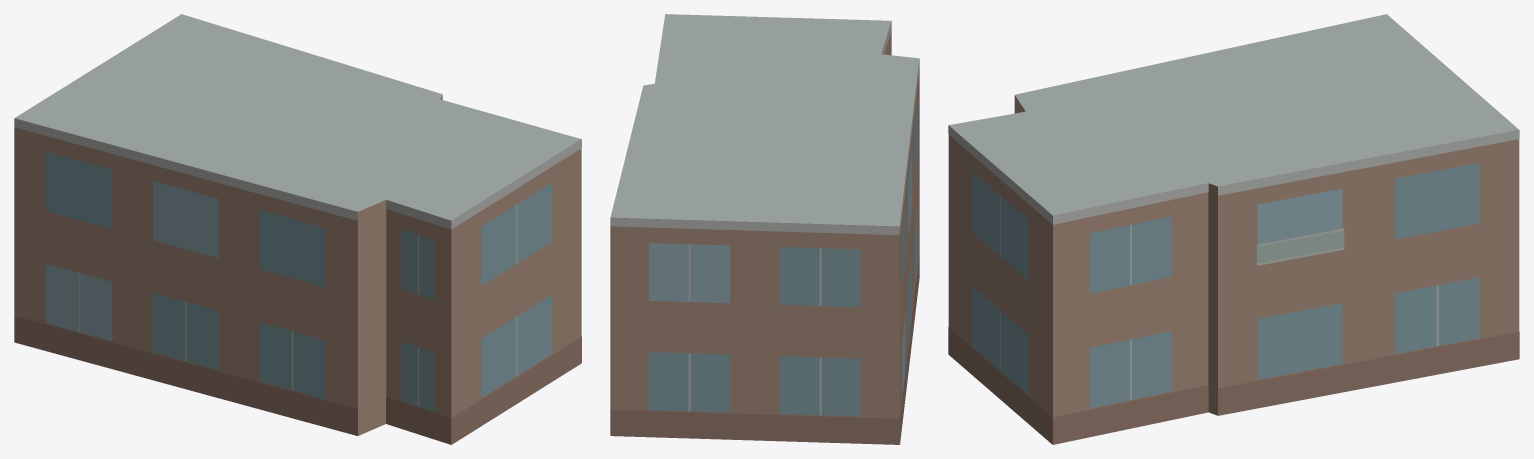
The model's file is survey-upis-32902502.glb.
3 renders of one model, left to right at view 1: azimuth 30°, elevation 25°; view 2: azimuth 150°, elevation 25°; view 3: azimuth 270°, elevation 25°, orthographic. The views are drawn at different scales.
Visible parts, largest first — view 1: survey-upis-32902502.tmp; view 2: survey-upis-32902502.tmp; view 3: survey-upis-32902502.tmp.
Boxes of the visible parts, x1=… form: survey-upis-32902502.tmp: x1=14, y1=14, x2=581, y2=444; survey-upis-32902502.tmp: x1=610, y1=14, x2=919, y2=444; survey-upis-32902502.tmp: x1=948, y1=14, x2=1519, y2=444.
Bounding box in the file's own units: 11.52 × 6.1 × 13.78.
